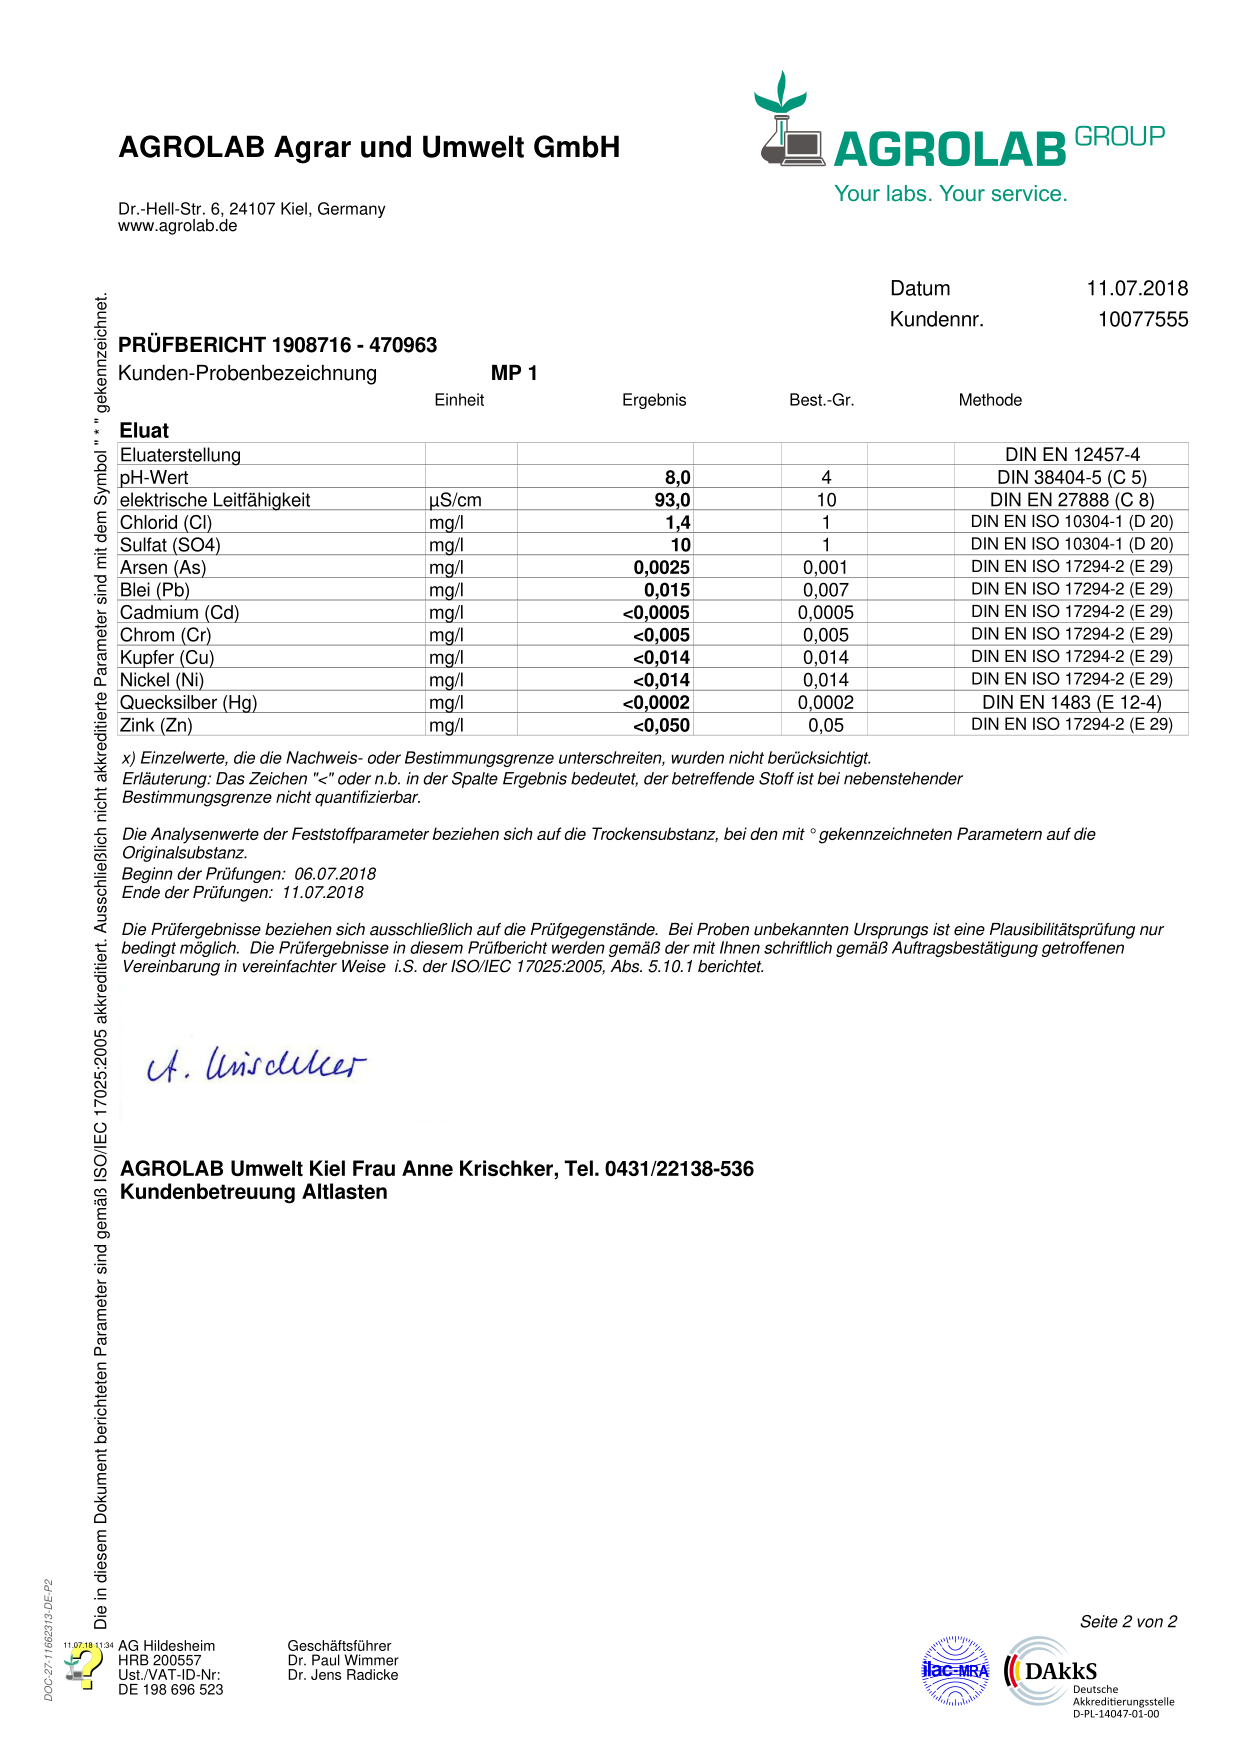table: (113, 419, 1196, 737)
